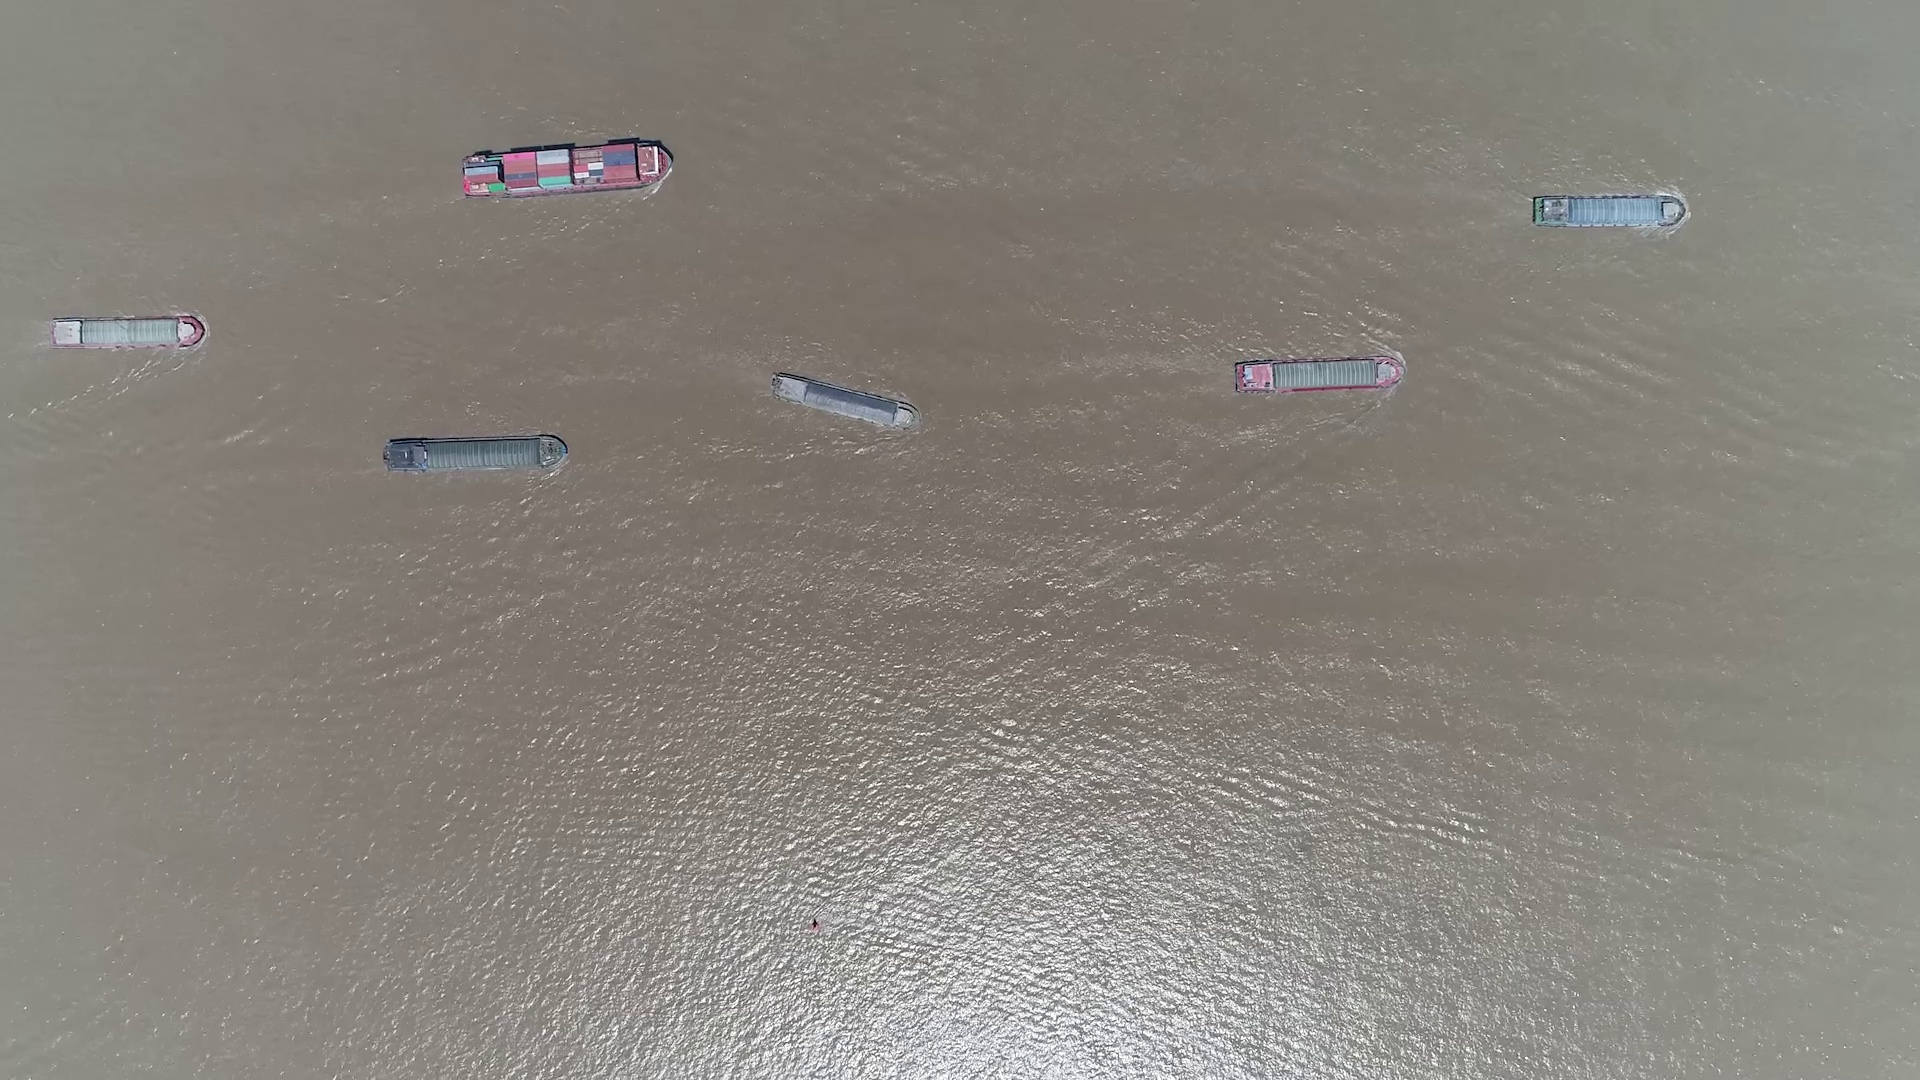ship: (460, 140, 673, 196), (770, 371, 918, 429), (384, 435, 564, 473), (1236, 355, 1403, 393), (1531, 195, 1684, 227), (50, 316, 202, 347)
